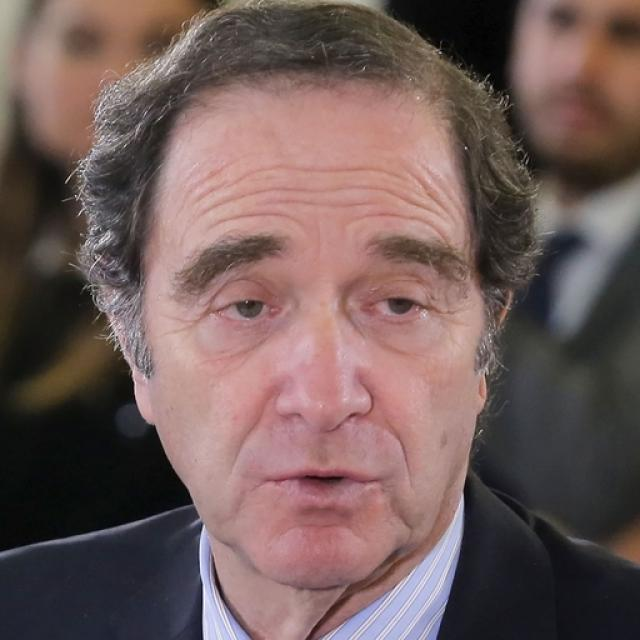sad: (144, 77, 486, 585)
